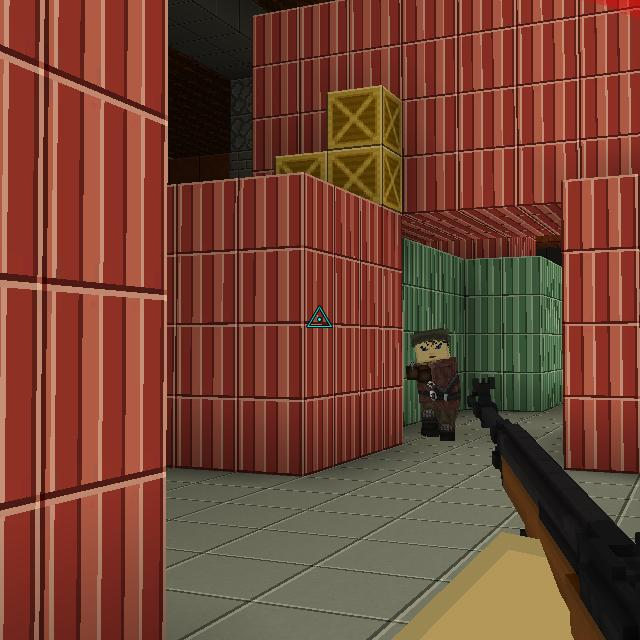enemy: (407, 325, 463, 442)
